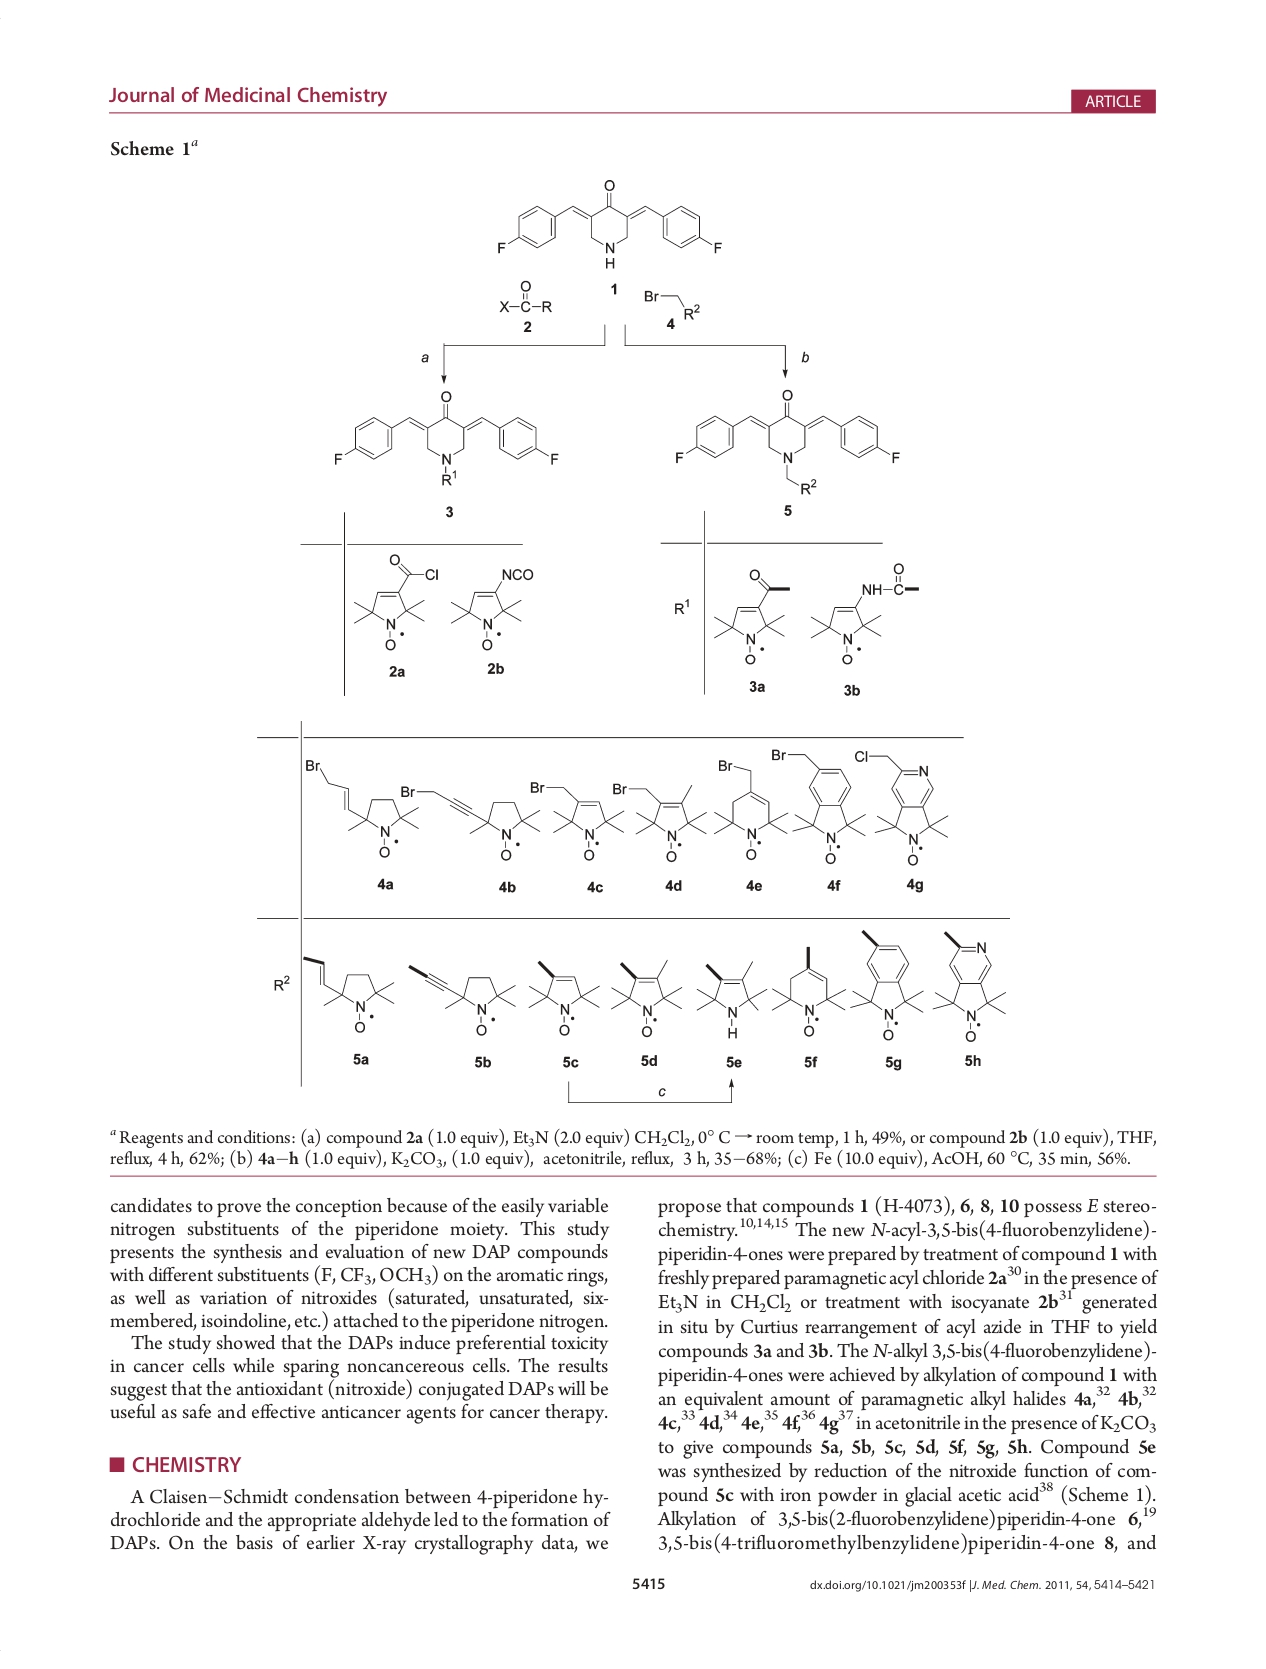exist_molecular: (674, 390, 902, 495), (331, 390, 561, 487), (495, 177, 723, 269), (769, 743, 868, 866), (809, 560, 922, 668), (303, 757, 420, 860), (852, 746, 951, 868), (399, 783, 543, 862), (351, 551, 442, 654), (931, 930, 1009, 1044), (850, 928, 927, 1044), (404, 960, 517, 1039), (710, 567, 794, 669), (710, 755, 791, 860), (610, 779, 710, 863), (527, 781, 626, 862), (448, 564, 535, 656), (301, 954, 395, 1035), (769, 944, 848, 1040), (527, 958, 602, 1040), (608, 958, 684, 1040), (694, 960, 767, 1043), (497, 278, 555, 318), (644, 285, 701, 322)
